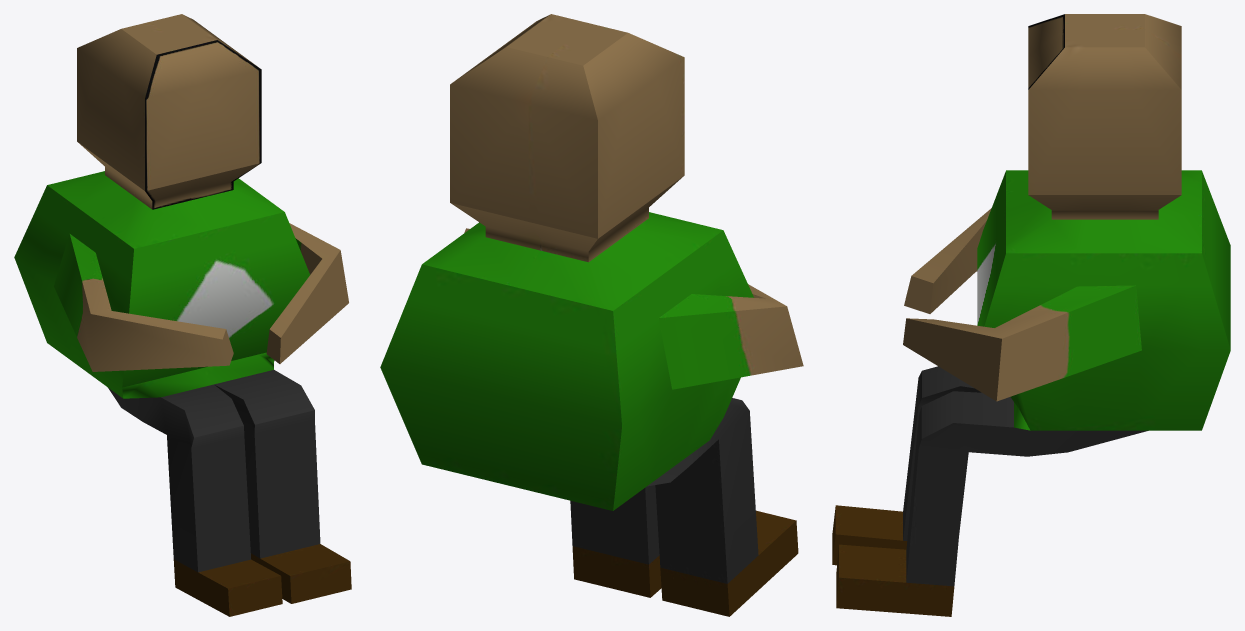
Rendered from Tutor_OtherGuy.fbx.
3 renders of one model, left to right at view 1: azimuth 30°, elevation 25°; view 2: azimuth 150°, elevation 25°; view 3: azimuth 270°, elevation 25°, orthographic. The views are drawn at different scales.
Parts seen in each view (by area): view 1: Guy; view 2: Guy; view 3: Guy.
Boxes of the visible parts, x1,y1,x2,y2 form: Guy: (14,14,351,616); Guy: (380,14,803,616); Guy: (832,14,1230,616).
Size of the model in its own units: 59.82 by 107 by 69.76.
Materials: 1 (1 with a texture image).
